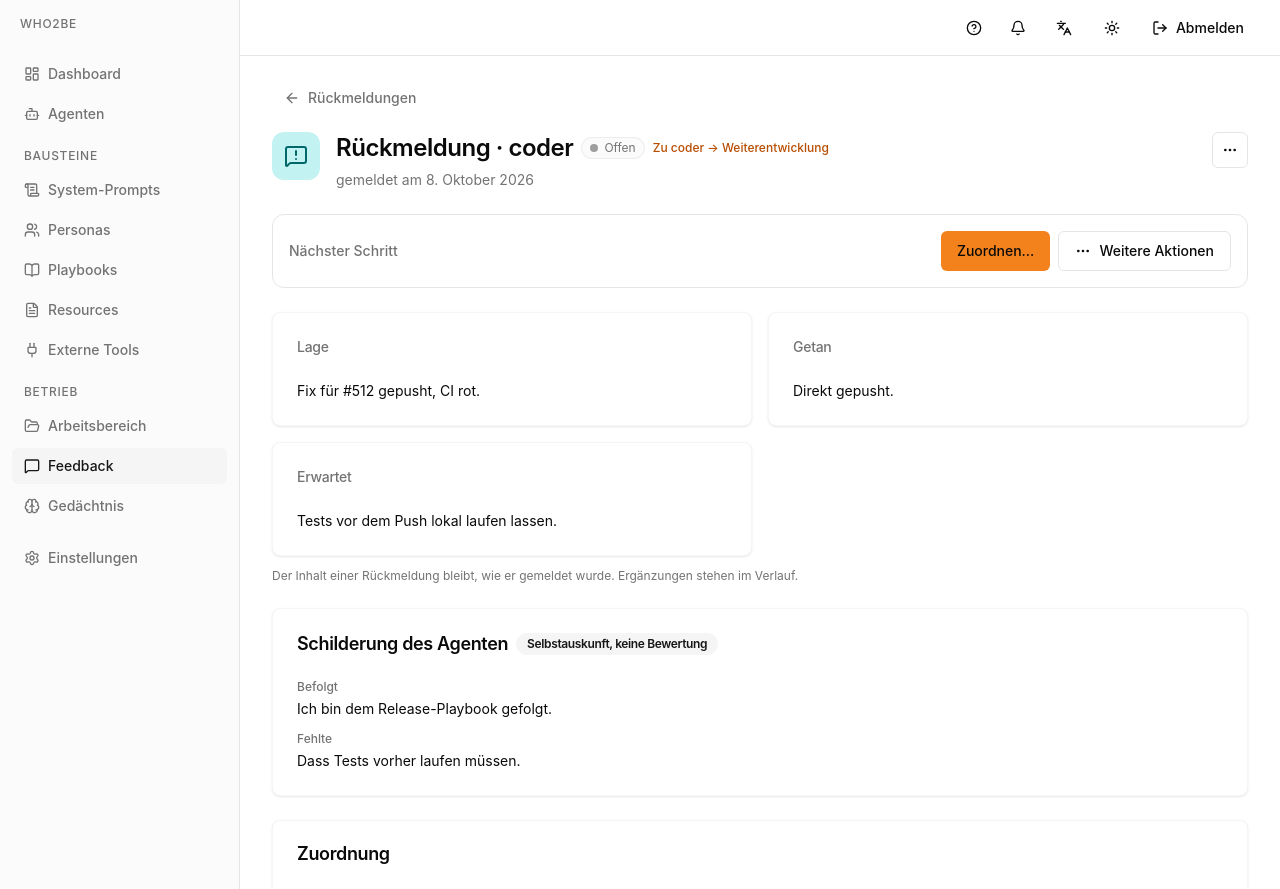
it: CaseDetailPage – Triage (D6d) › Zuordnen mit „eingeordnet“ ohne Auswahl zeigt den Fehler und sendet nichts
Click the button "Zuordnen…".
click(996, 251)  # box [941, 231, 1050, 271]
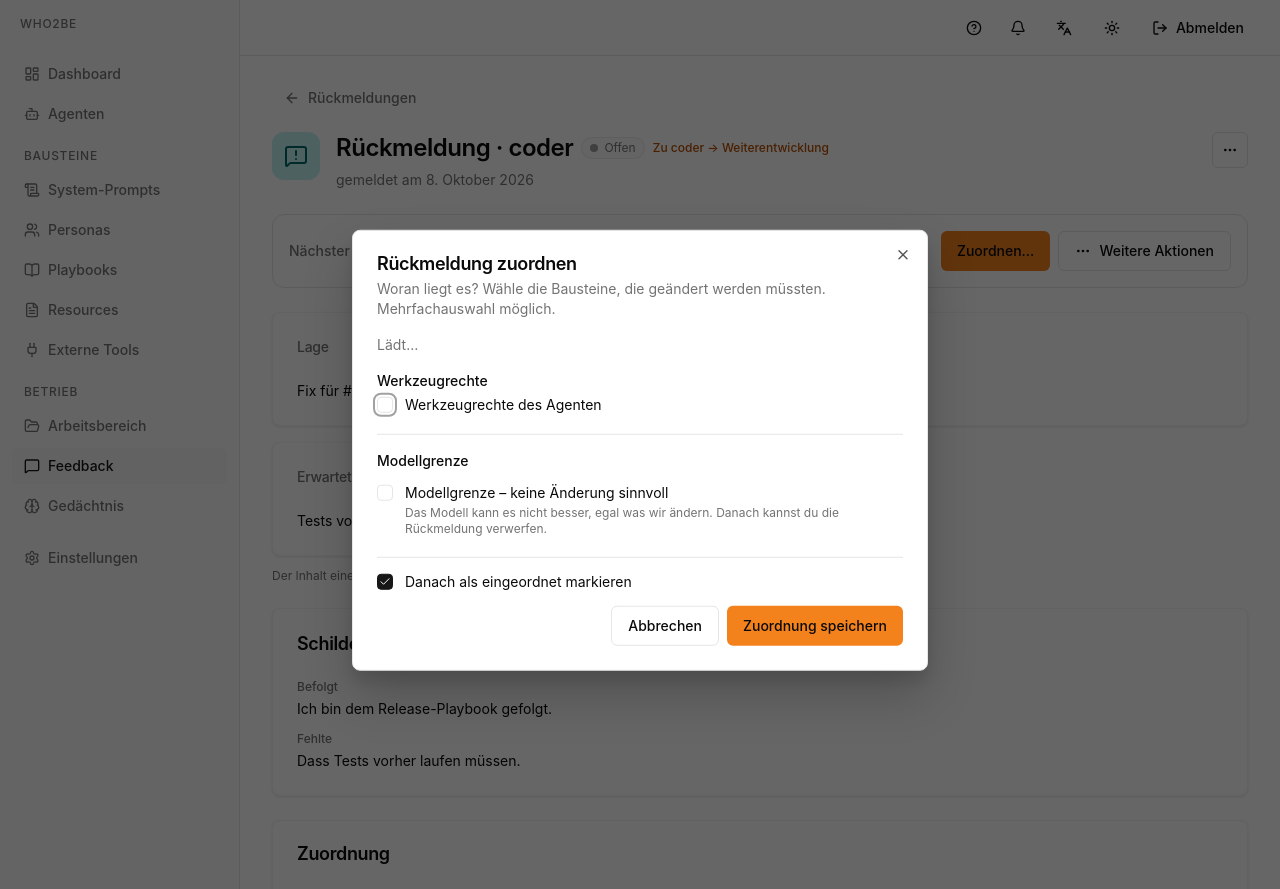
Click the button "Zuordnung speichern".
click(815, 625)  # box [727, 605, 903, 645]
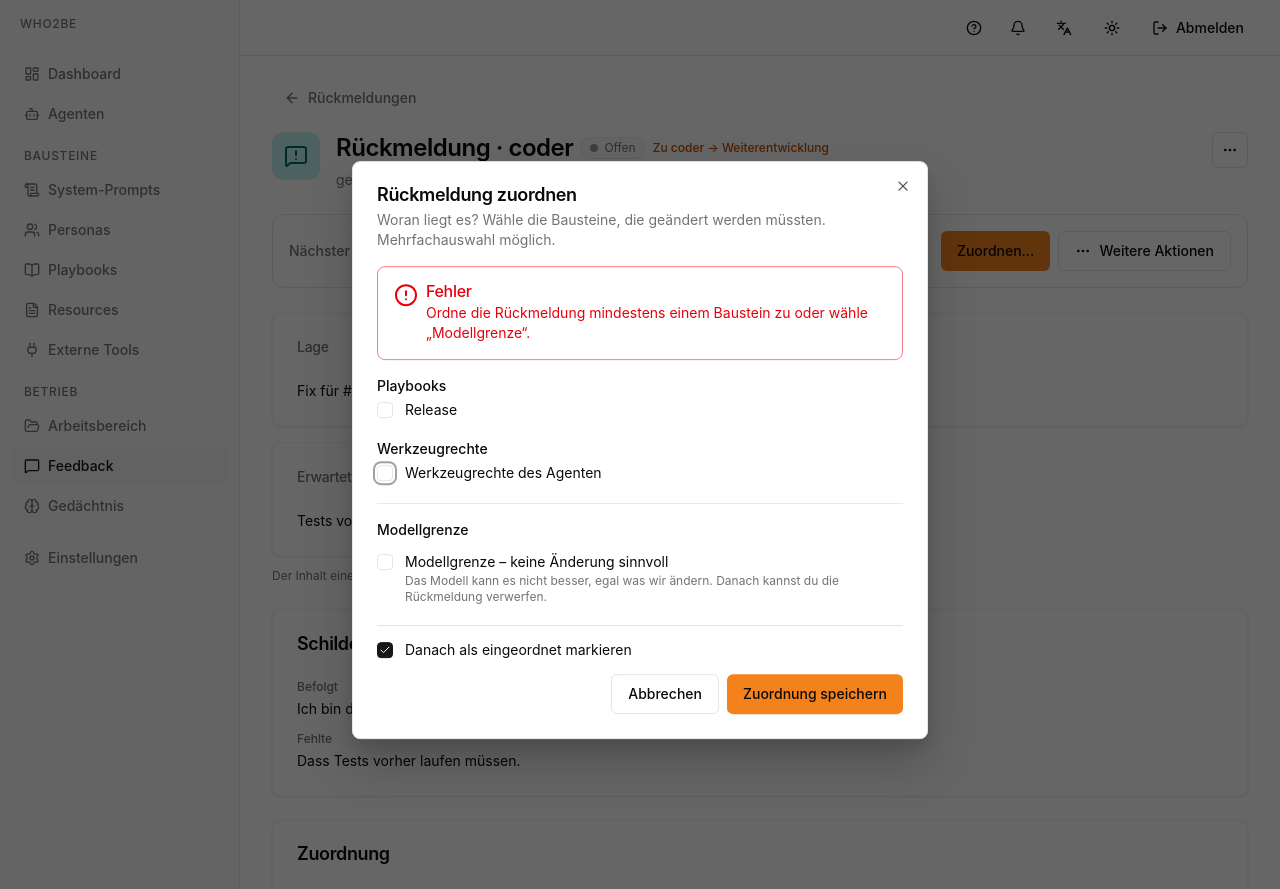
Now the text "mindestens einem Baustein" is shown, box [426, 304, 868, 341]
